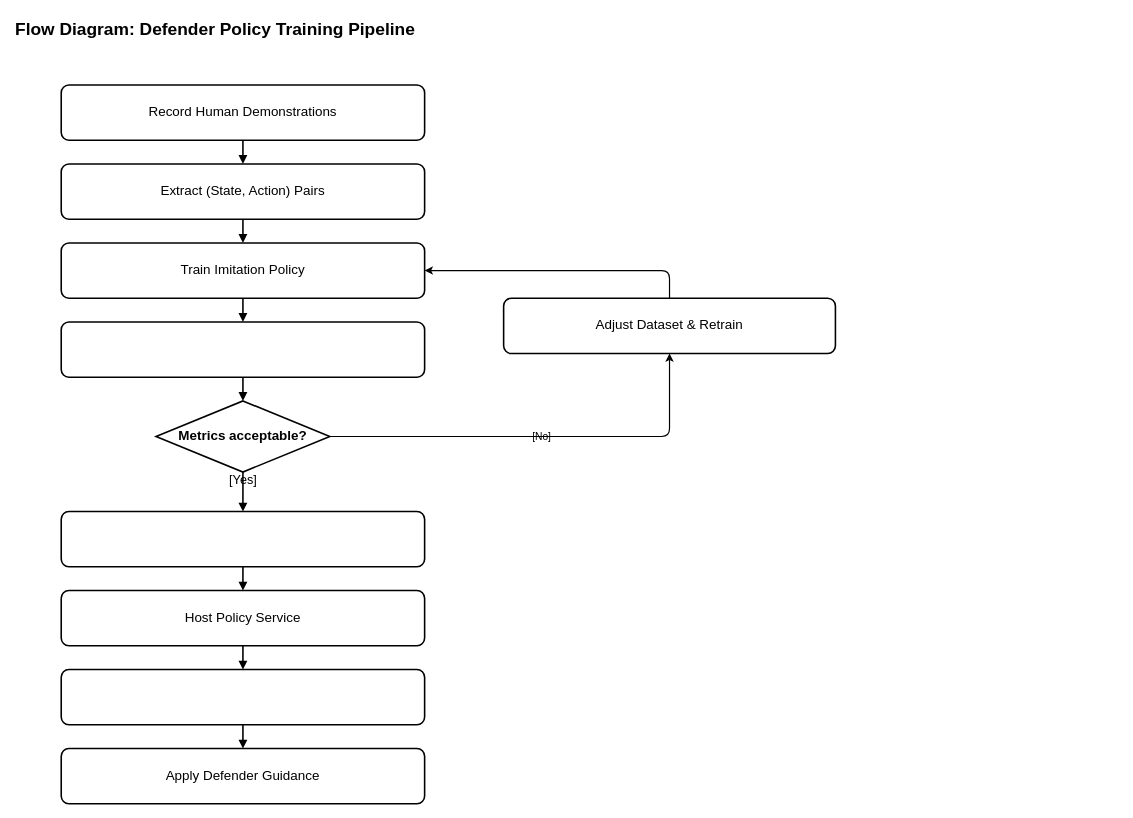
This 1133x818 diagram has some shape labels left out. Each missing label, with the centre of its shape:
Serialize Policy Model: [242,538]
Stream Policy Predictions: [242,696]
Validate Policy Model: [242,349]
